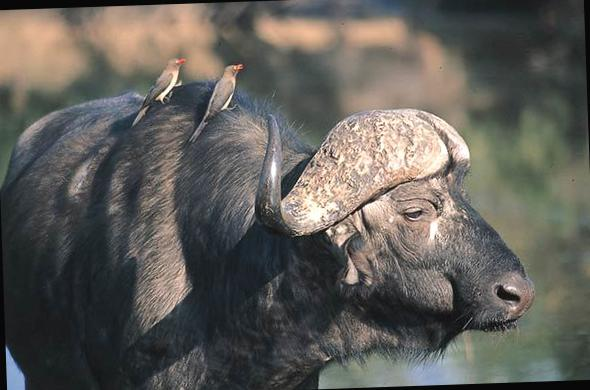Buffalo: (0, 16, 539, 390)
